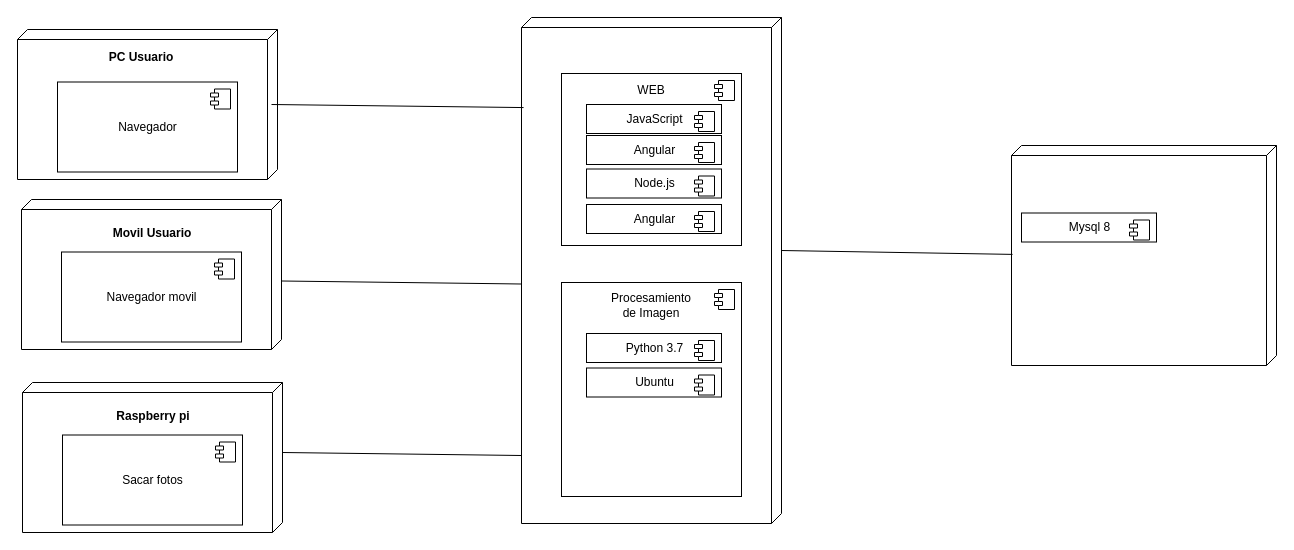
This 1294x550 diagram has some shape labels left out. Here are the shapes that lost their labels. From the top down, the box of each, then its label:
(520, 16, 782, 524): Servidor Docker
(1010, 144, 1276, 366): Servidor BD
